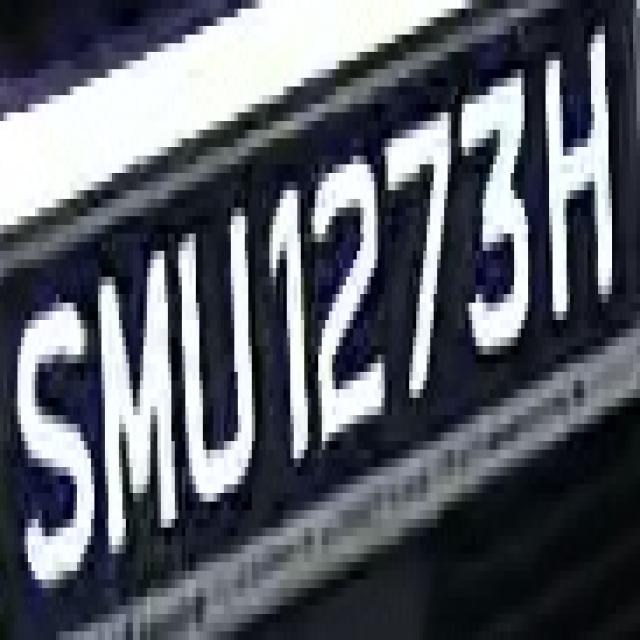1: (269, 147, 315, 510)
2: (297, 121, 392, 450)
3: (444, 61, 539, 380)
7: (367, 86, 465, 432)
H: (542, 0, 626, 337)
M: (84, 182, 182, 580)
S: (7, 234, 101, 606)
U: (164, 165, 259, 528)
